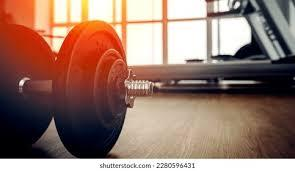dumbell: (0, 20, 154, 157)
